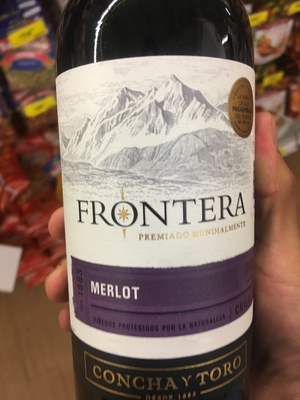frontera merlot: (41, 1, 270, 400)
